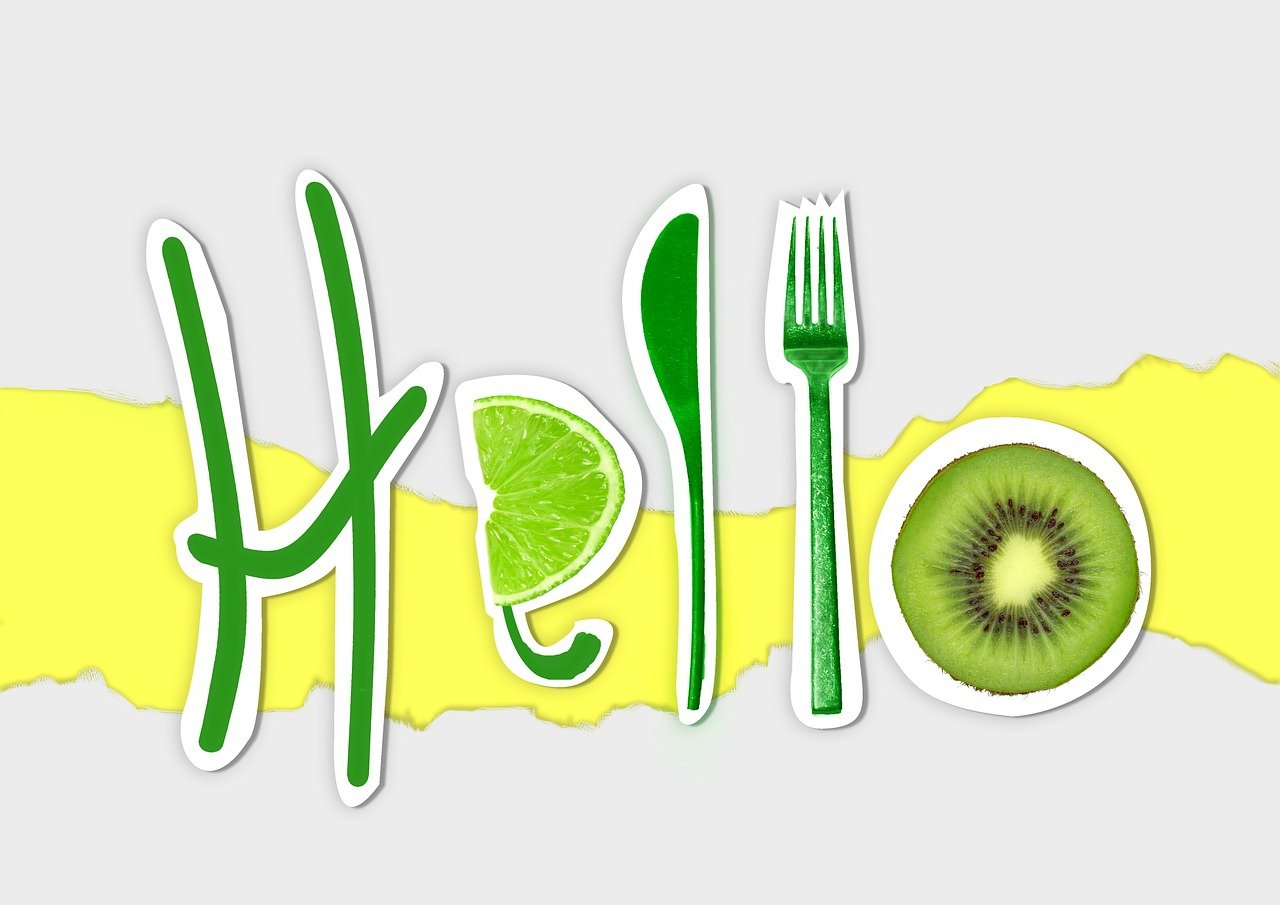knife: (614, 178, 721, 729)
